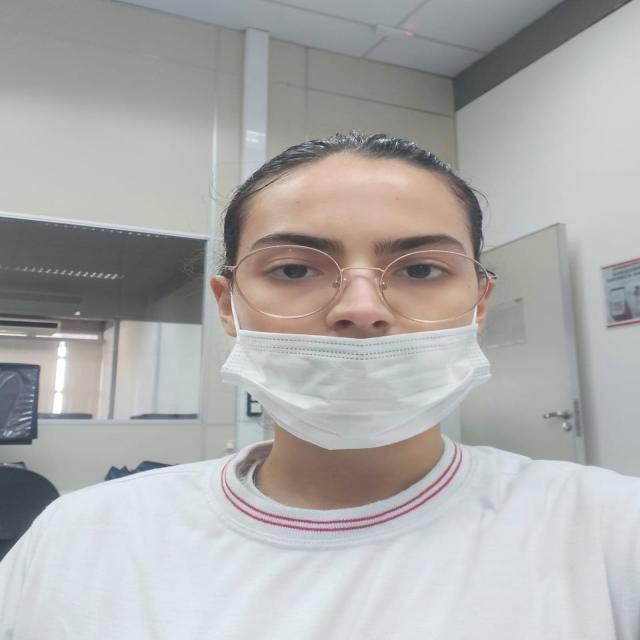hairnet: (205, 285, 490, 447)
